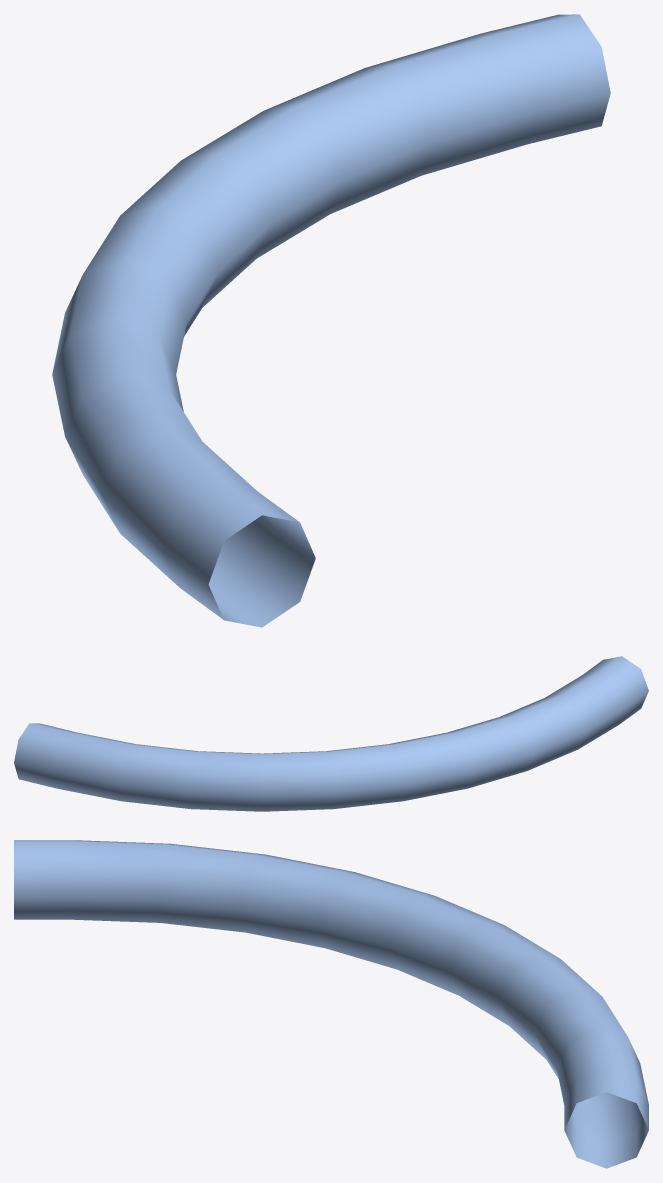
File: PipeSmall_Bent_07.fbx
3 views of the same model, one above another, from view 1: azimuth 30°, elevation 25°; view 2: azimuth 150°, elevation 25°; view 3: azimuth 270°, elevation 25° (orthographic). The views are drawn at different scales.
Visible parts, largest first — view 1: PipeSmall_Bent_07.001; view 2: PipeSmall_Bent_07.001; view 3: PipeSmall_Bent_07.001.
Boxes of the visible parts, x1,y1,x2,y2 form: PipeSmall_Bent_07.001: [52, 14, 610, 627]; PipeSmall_Bent_07.001: [14, 656, 648, 811]; PipeSmall_Bent_07.001: [14, 840, 648, 1168].
Bounding box in the file's own units: 0.75 × 0.1 × 0.75.
